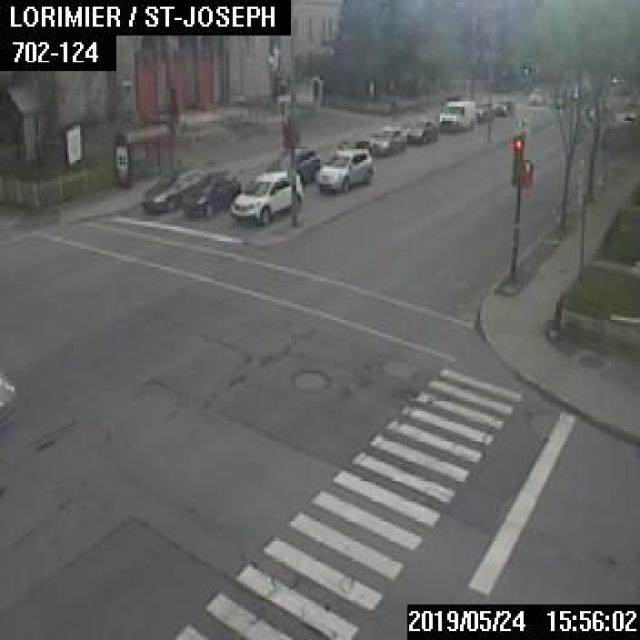pedestrian: (312, 75, 318, 104)
vehicle: (229, 170, 301, 223), (142, 164, 210, 214), (181, 170, 240, 214), (315, 146, 373, 190), (267, 146, 318, 185), (438, 99, 473, 131), (368, 124, 405, 154), (334, 137, 370, 159), (406, 119, 436, 143), (0, 375, 16, 408), (474, 100, 492, 122), (492, 97, 513, 115), (527, 86, 542, 105), (610, 72, 626, 84), (623, 107, 638, 119)
